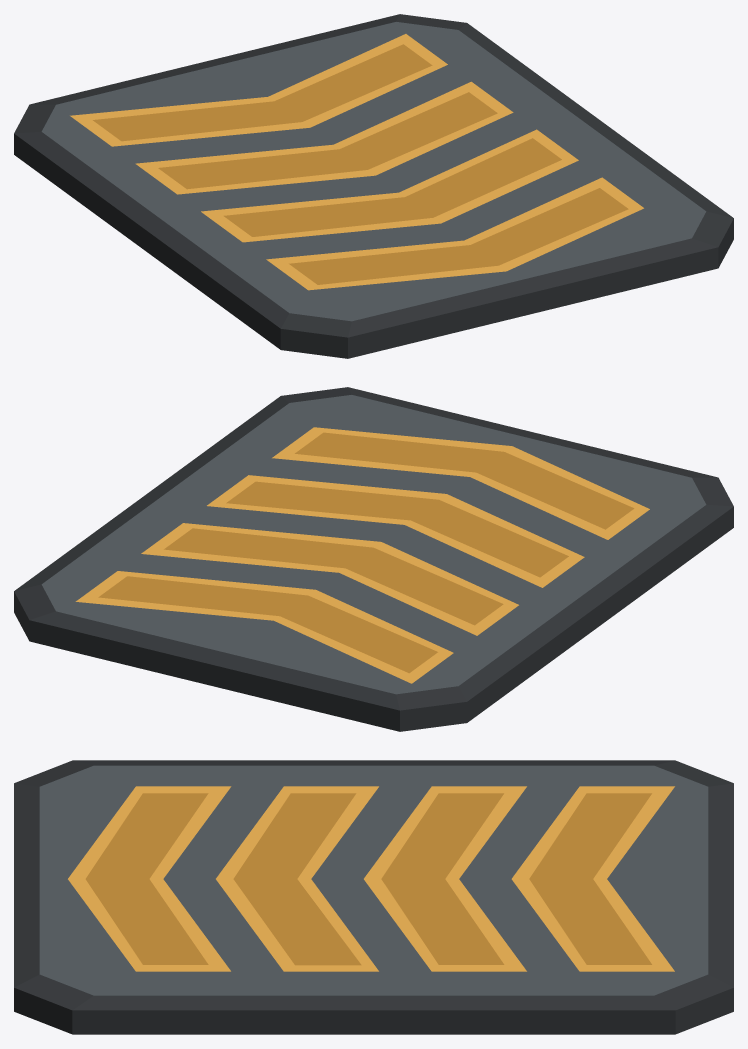
File: SM_Prop_BoostPad_01.glb
The picture shows the model from 3 angles, top to bottom: view 1: azimuth 30°, elevation 25°; view 2: azimuth 150°, elevation 25°; view 3: azimuth 270°, elevation 25°; orthographic projection. The views are drawn at different scales.
Parts seen in each view (by area): view 1: SM_Prop_BoostPad_01; view 2: SM_Prop_BoostPad_01; view 3: SM_Prop_BoostPad_01.
Part boxes in pixels (bbox=[...]): SM_Prop_BoostPad_01: bbox=[14, 14, 733, 358]; SM_Prop_BoostPad_01: bbox=[14, 387, 733, 731]; SM_Prop_BoostPad_01: bbox=[14, 760, 733, 1034].
Size of the model in its own units: 1.29 by 0.0695 by 1.57.
Materials: 1 (1 with a texture image).
